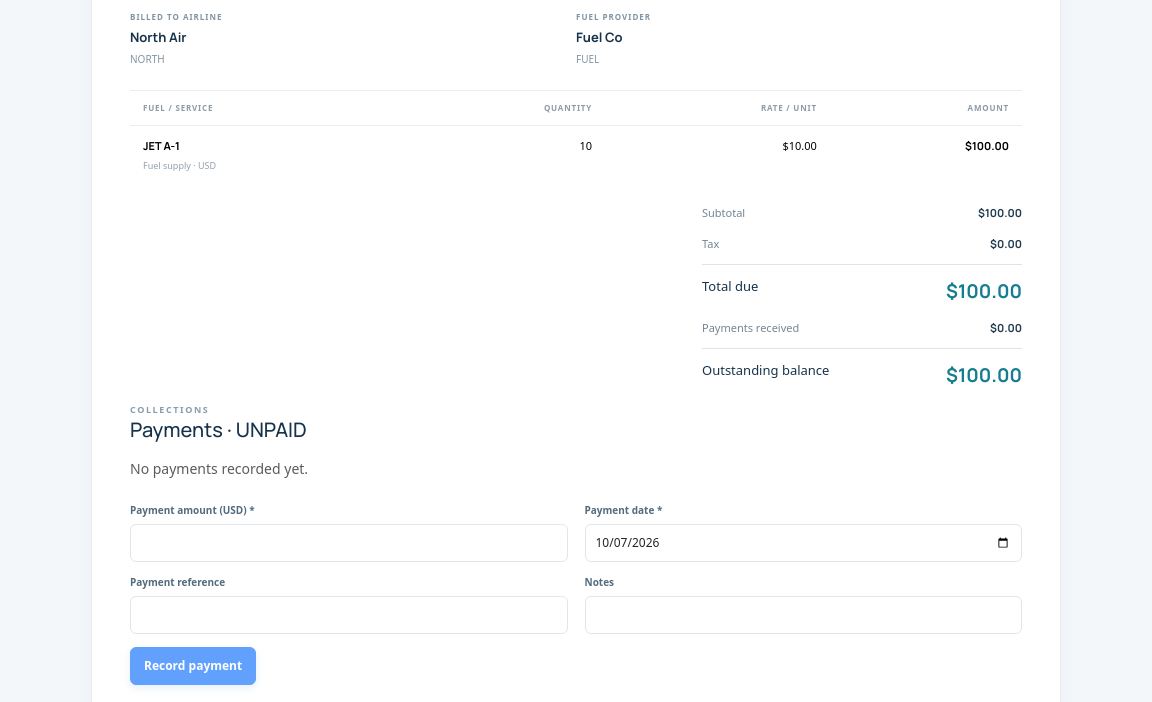
Test: invoice payment recording › records a partial payment and refreshes the outstanding balance
(page scrolled)
Expected: the text "No payments recorded yet." is shown, [130,459,308,478]
In the number field labelled "Payment amount (USD) *": [349, 543] box [130,524,568,562], type "40.00"
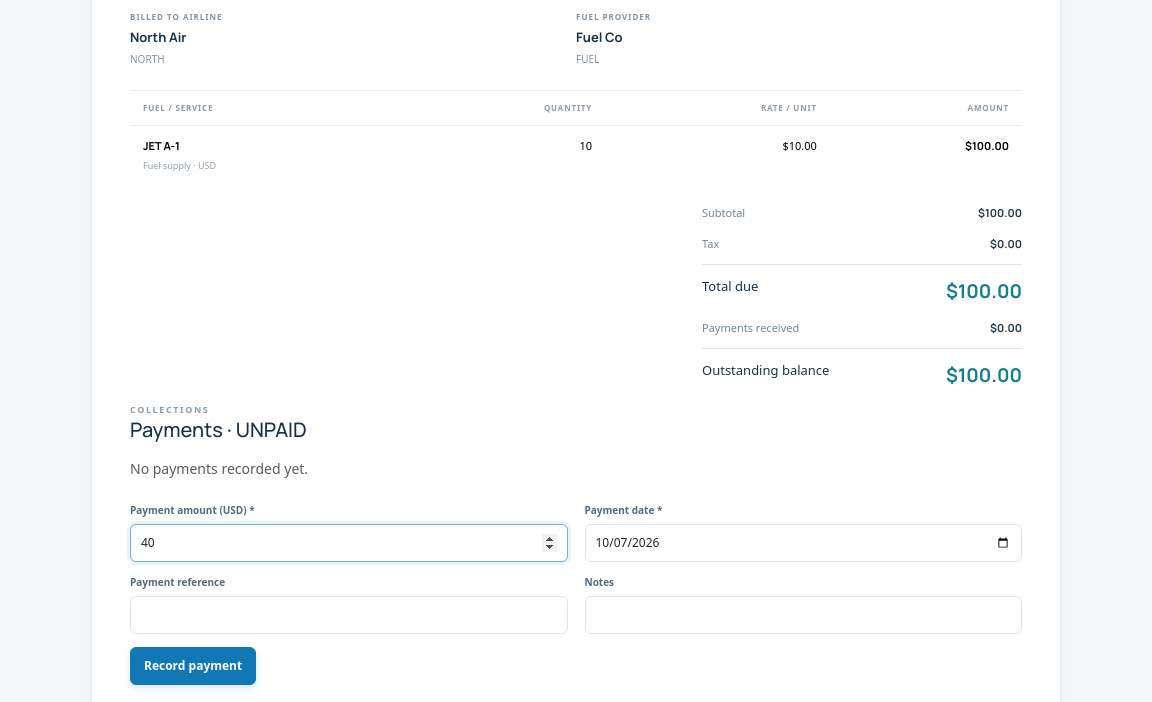
In the field labelled "Payment reference": [349, 615] box [130,596,568,634], type "WIRE-42"
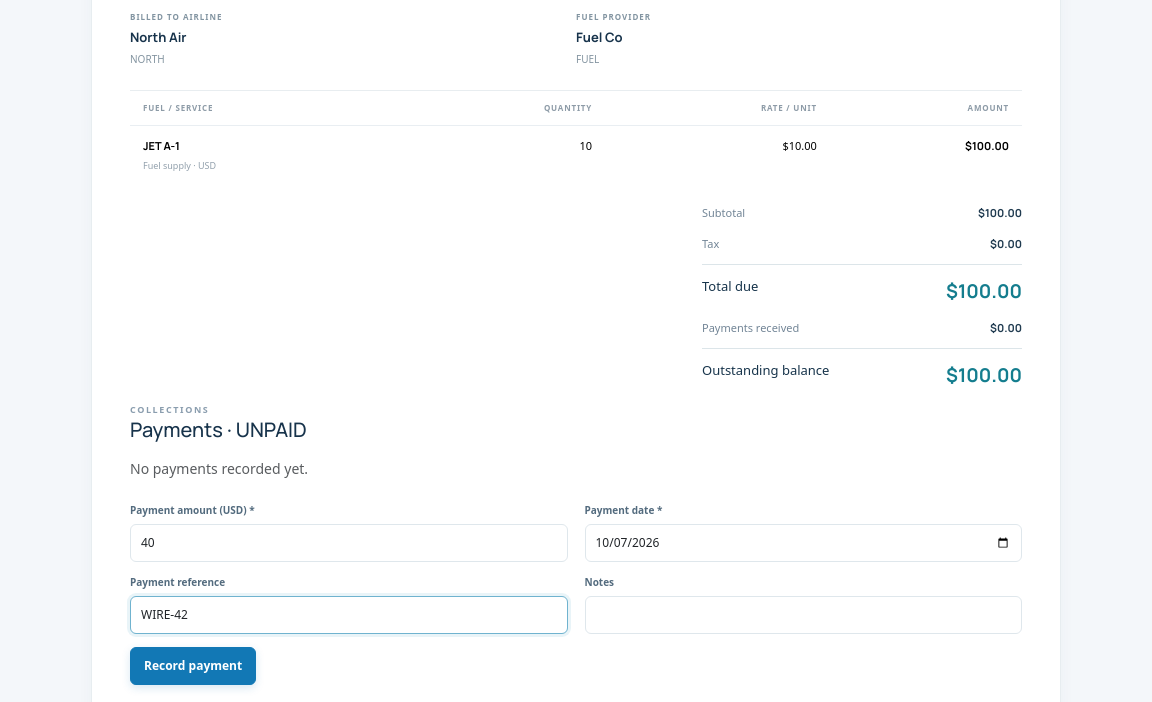
In the field labelled "Notes": [803, 615] box [584,596,1022,634], type "First installment"
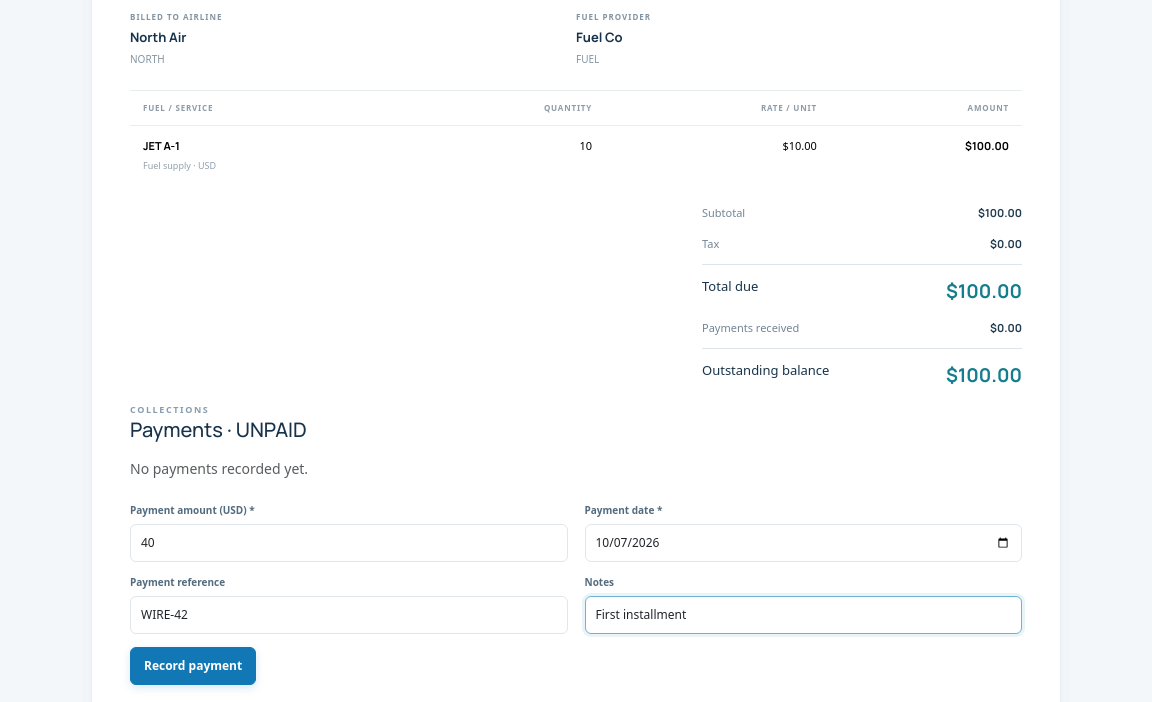
Click the button "Record payment": [193, 666] box [130,647,256,685]
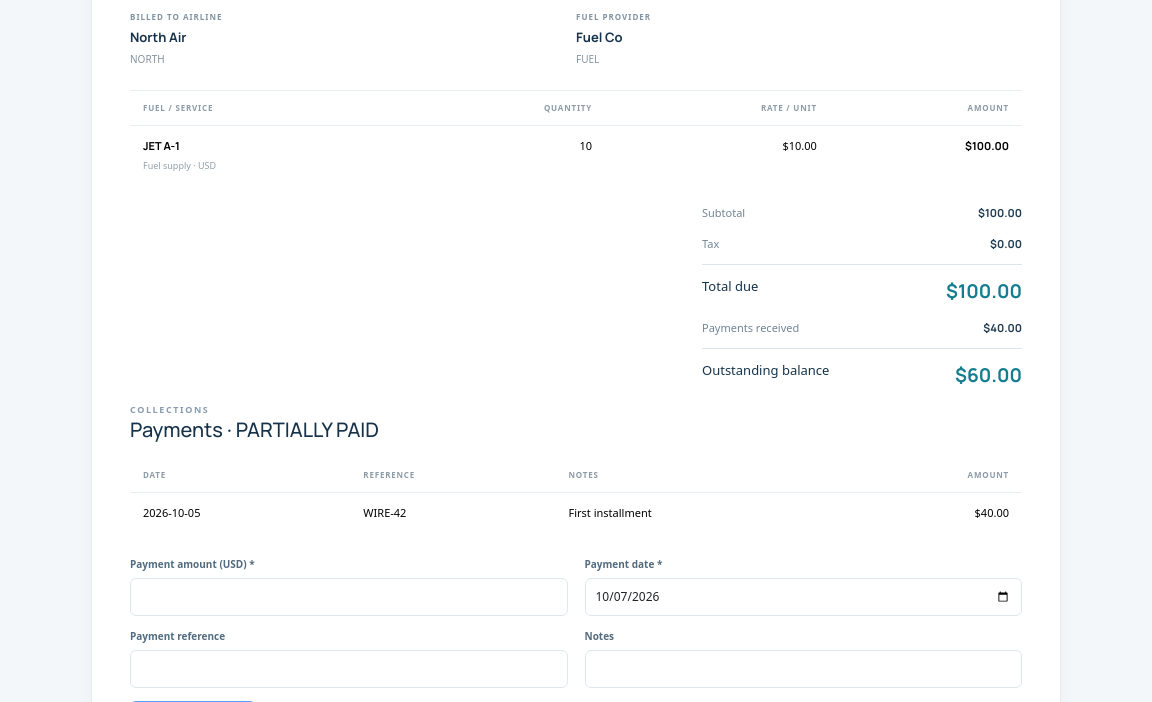
Now the heading "Payments · PARTIALLY PAID" is shown, box [130,418,379,442]
Now the text "$60.00" is shown, box [955,361,1022,390]
Now the text "WIRE-42" is shown, box [350,492,556,533]
